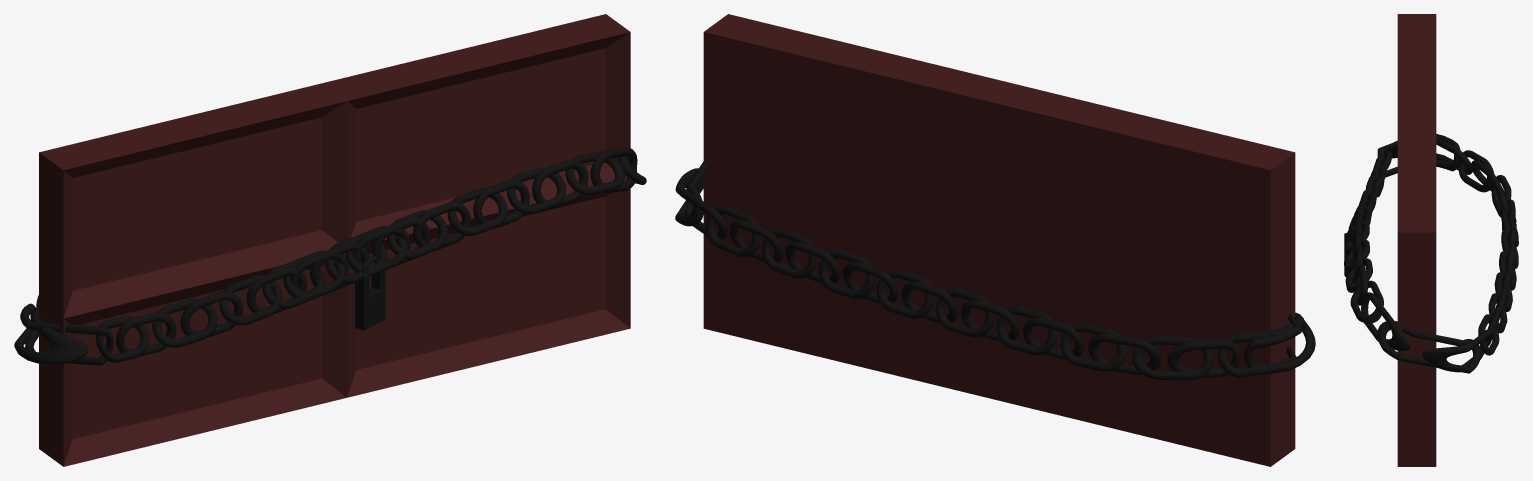
Rendered from IsometricTile_Dark_Door.fbx.
3 views of the same model, side by side, from view 1: azimuth 30°, elevation 25°; view 2: azimuth 150°, elevation 25°; view 3: azimuth 270°, elevation 25° (orthographic). The views are drawn at different scales.
Visible parts, largest first — view 1: Cube.009, Cube.018, Torus, Cube.017; view 2: Cube.009, Cube.018, Torus; view 3: Cube.018, Torus, Cube.009.
Boxes of the visible parts, x1,y1,x2,y2 form: Cube.009: (39, 83, 346, 466); Cube.018: (323, 14, 630, 397); Torus: (14, 147, 646, 365); Cube.017: (355, 256, 385, 330); Cube.009: (987, 83, 1295, 466); Cube.018: (703, 14, 1011, 397); Torus: (675, 161, 1315, 380); Cube.018: (1397, 123, 1436, 466); Torus: (1344, 134, 1518, 373); Cube.009: (1397, 14, 1436, 123).
Bounding box in the file's own units: 0.6764 × 2.15 × 1.
